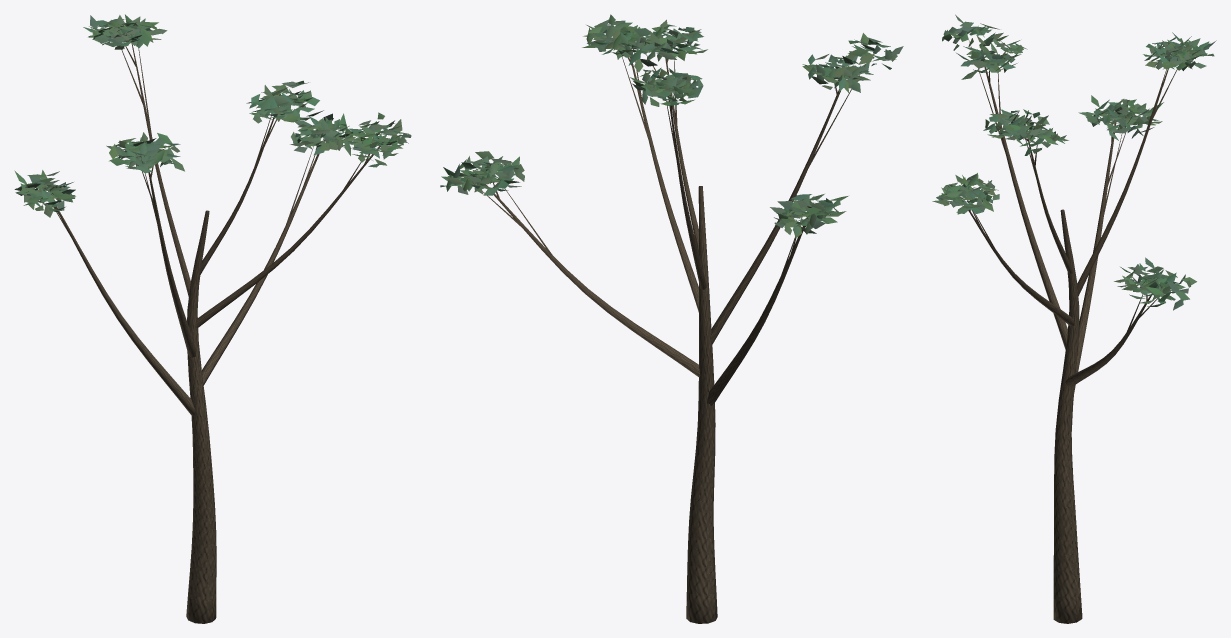
The model's file is quay-banyan-b.glb.
The picture shows the model from 3 angles, left to right: view 1: azimuth 30°, elevation 25°; view 2: azimuth 150°, elevation 25°; view 3: azimuth 270°, elevation 25°; orthographic projection. The views are drawn at different scales.
Visible parts, largest first — view 1: bark, leaves; view 2: bark, leaves; view 3: bark, leaves.
Part boxes in pixels (left/top/right/bottom): bark: left=53, top=34, right=380, bottom=623; leaves: left=14, top=14, right=411, bottom=217; bark: left=472, top=45, right=865, bottom=623; leaves: left=440, top=14, right=903, bottom=238; bark: left=962, top=38, right=1177, bottom=623; leaves: left=932, top=14, right=1216, bottom=310.
Bounding box in the file's own units: 7.53 × 11.49 × 5.29.
2 materials, 1 textured.
